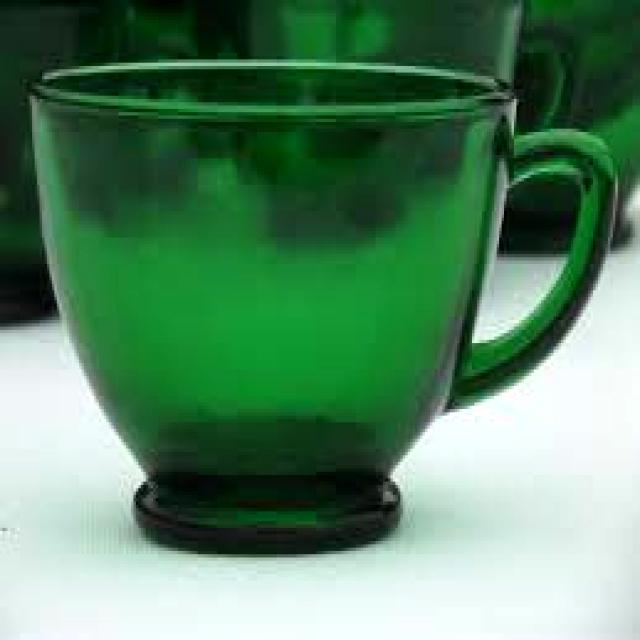Glass: (24, 58, 624, 562)
